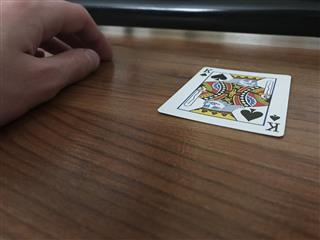KingOfSpades: (156, 65, 292, 138)
